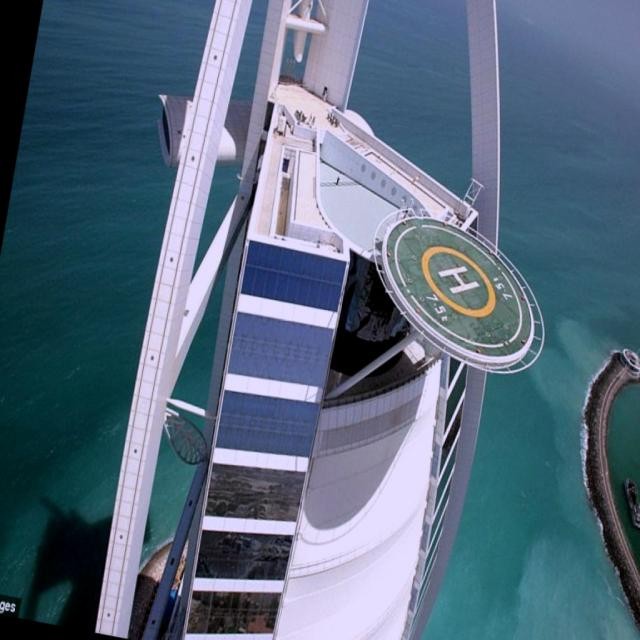helipad: (417, 241, 497, 320)
